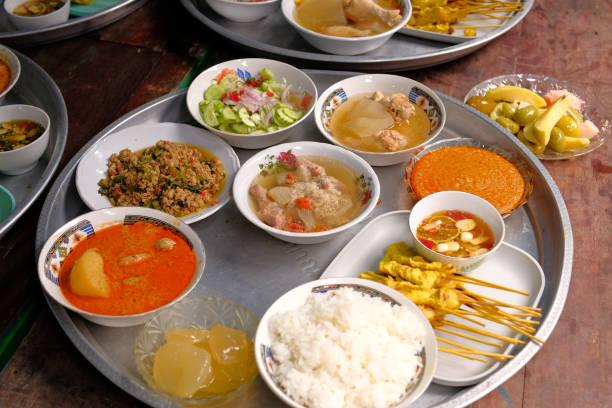Braised Crucian Carp: (36, 205, 201, 327), (75, 121, 236, 223), (231, 141, 377, 243), (313, 73, 443, 166), (186, 57, 314, 149)
